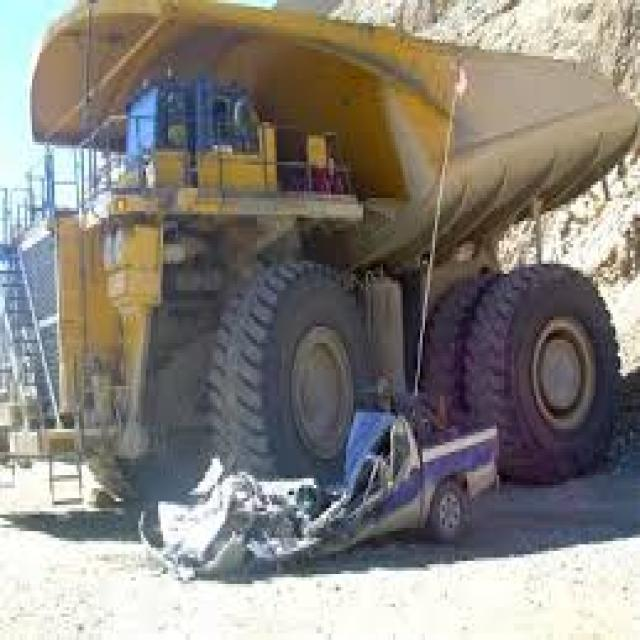dump_truck: (20, 3, 628, 508)
